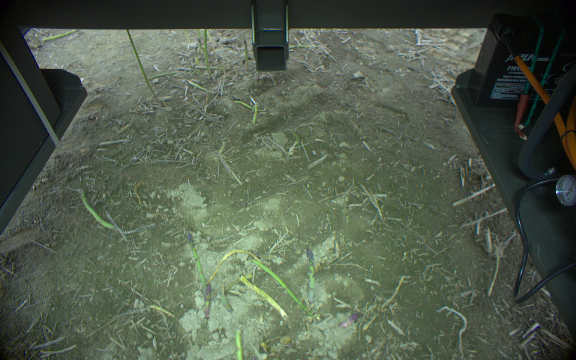aspa: (249, 257, 311, 317), (122, 30, 163, 106), (237, 275, 289, 320), (77, 192, 123, 238), (184, 232, 206, 293), (306, 246, 317, 312), (38, 29, 84, 44), (233, 97, 273, 114), (200, 283, 217, 322), (227, 326, 246, 360), (200, 29, 212, 77), (337, 311, 363, 331), (241, 38, 251, 73), (250, 98, 260, 125)
